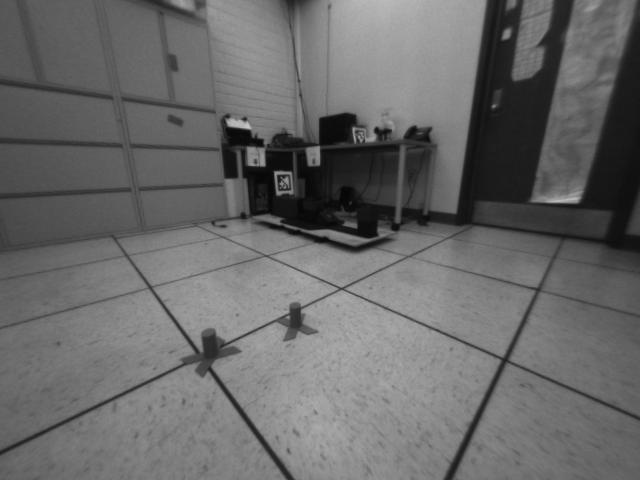X: (179, 328, 243, 376), (275, 300, 319, 343)
